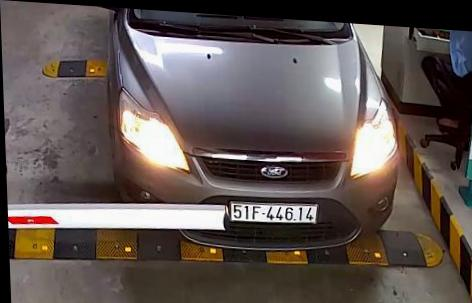License_Plate: (228, 198, 319, 228)
